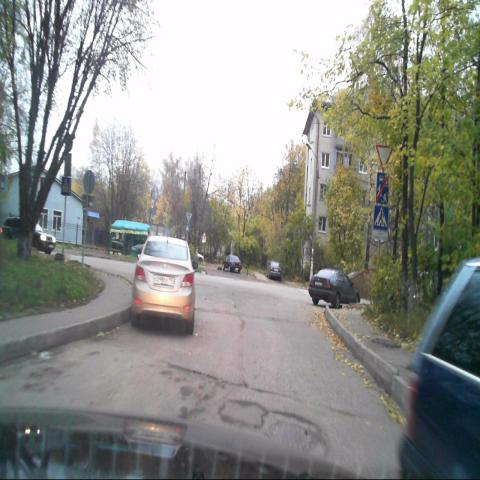5_22: (376, 173, 388, 204)
